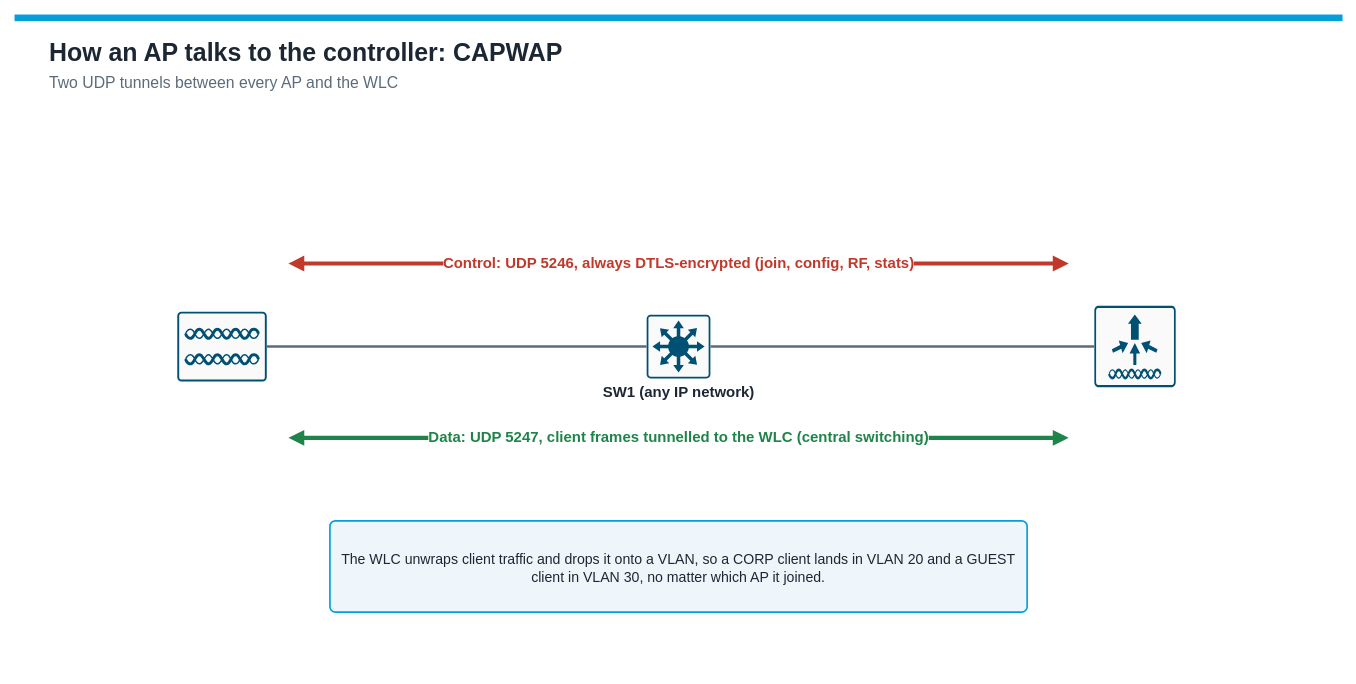
Some shapes in this 1356 by 684 pixel diagram are drawn without their labels. The shapes that lost their labels are listed below. From the top down, each one's centre as x and y in pixels, then its label:
(x=221, y=346): Access point (vAP)
(x=1135, y=346): Catalyst 9800-CL
